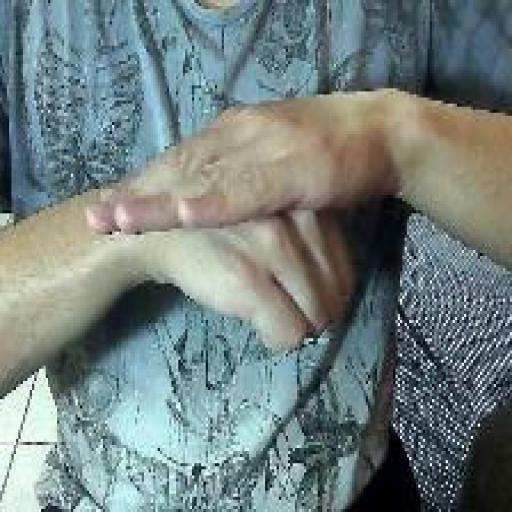Inu -dog-: (82, 93, 359, 358)
